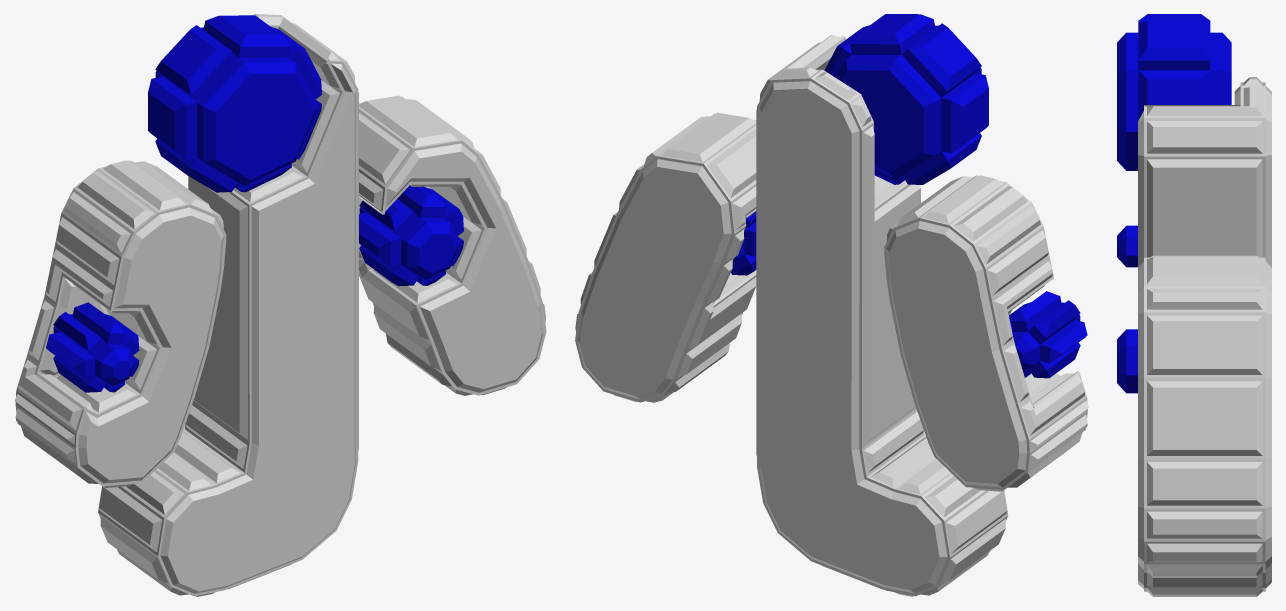
File: Ch_China_小_01.fbx
3 renders of one model, left to right at view 1: azimuth 30°, elevation 25°; view 2: azimuth 150°, elevation 25°; view 3: azimuth 270°, elevation 25°, orthographic. The views are drawn at different scales.
Visible parts, largest first — view 1: sphere1; view 2: sphere1; view 3: sphere1.
Boxes of the visible parts, x1,y1,x2,y2 form: sphere1: (14,14,546,596); sphere1: (575,14,1088,596); sphere1: (1117,14,1271,596).
Bounding box in the file's own units: 0.9205 × 1.01 × 0.2541.
